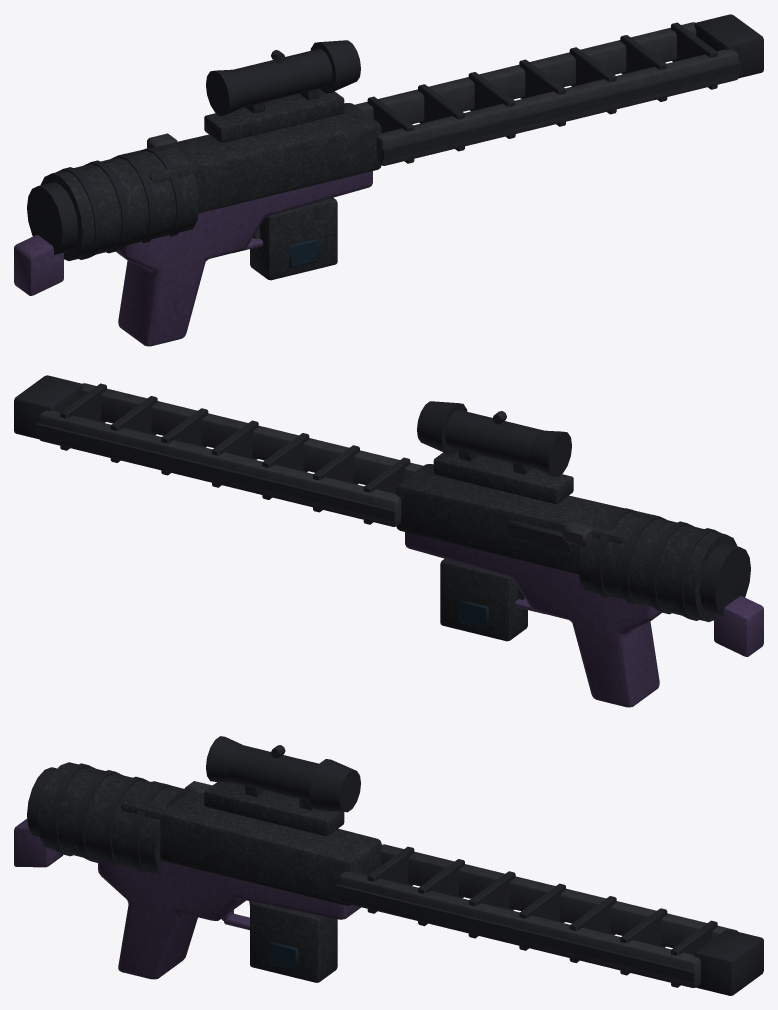
File: railgun_r1.fbx
The picture shows the model from 3 angles, top to bottom: view 1: azimuth 30°, elevation 25°; view 2: azimuth 150°, elevation 25°; view 3: azimuth 330°, elevation 25°; orthographic projection.
Visible parts, largest first — view 1: Body, Magazine; view 2: Body, Magazine, Bolt; view 3: Body, Magazine.
Boxes of the visible parts, x1,y1,x2,y2 form: Body: (14, 14, 763, 346); Magazine: (250, 198, 337, 280); Body: (14, 375, 763, 707); Magazine: (440, 559, 527, 641); Bolt: (508, 520, 593, 552); Body: (14, 736, 763, 995); Magazine: (250, 901, 337, 982).
Size of the model in its own units: 9.35 by 3.08 by 1.08.
1 material, 1 textured.
